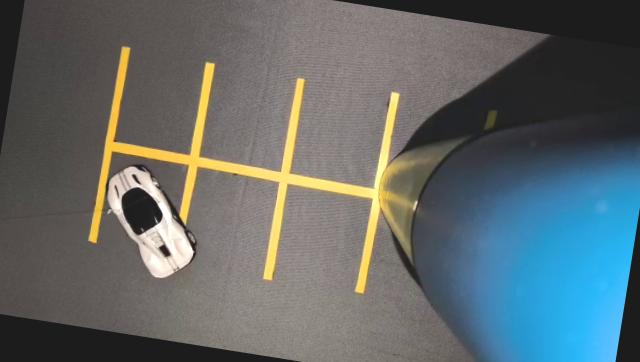toy_car: (66, 144, 225, 310)
